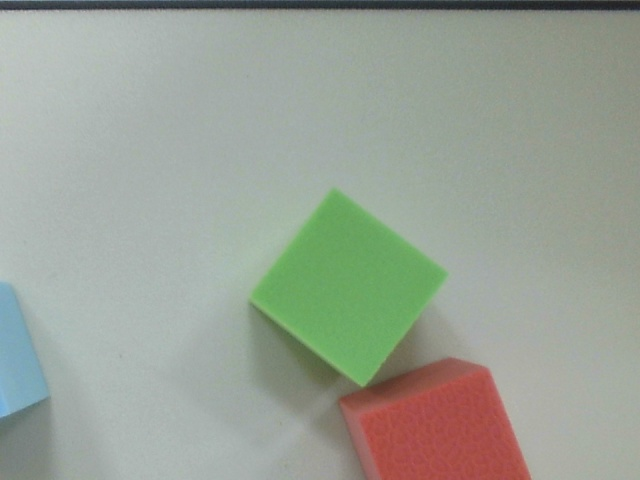greencube: (238, 182, 465, 392)
